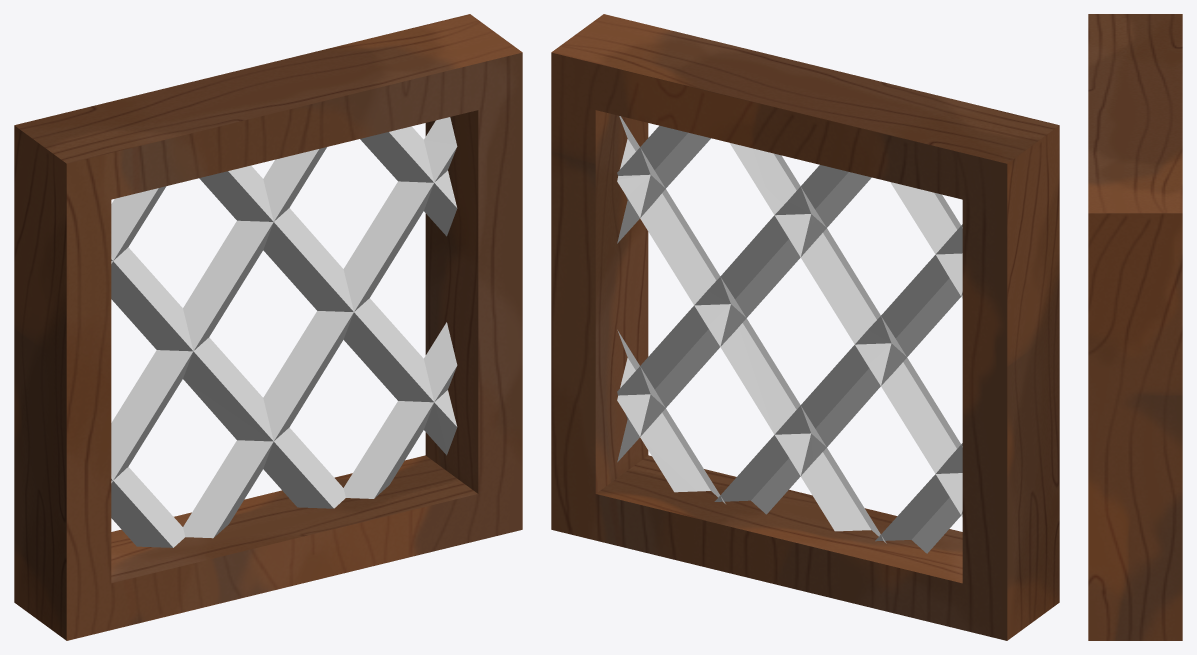
File: Window Grills 2.fbx
3 renders of one model, left to right at view 1: azimuth 30°, elevation 25°; view 2: azimuth 150°, elevation 25°; view 3: azimuth 270°, elevation 25°, orthographic. The views are drawn at different scales.
Visible parts, largest first — view 1: Window Frame, Window Grill; view 2: Window Frame, Window Grill; view 3: Window Frame.
Part boxes in pixels (x1,y1,x2,y2): Window Frame: (14, 14, 522, 640); Window Grill: (111, 117, 457, 547); Window Frame: (551, 14, 1059, 640); Window Grill: (617, 116, 962, 553); Window Frame: (1088, 14, 1182, 640).
Bounding box in the file's own units: 40 × 40 × 8.
